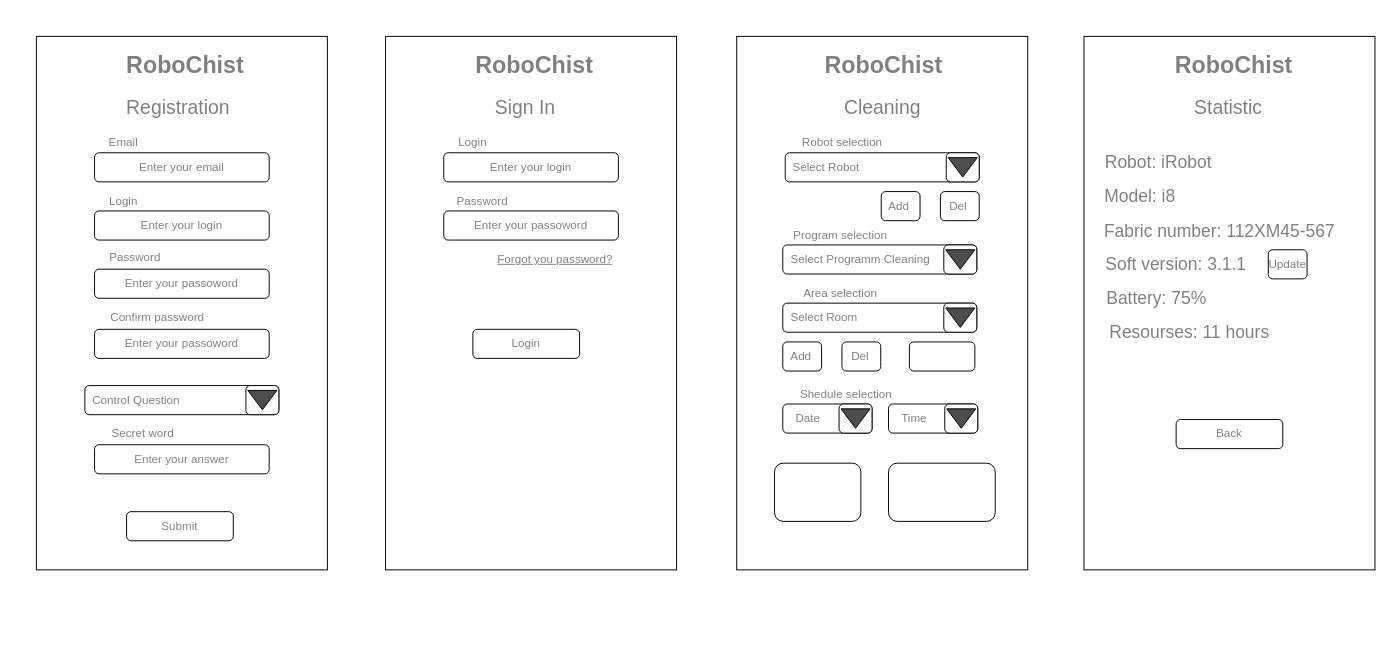
The diagram is 1392 pixels wide and 663 high, and some of its shapes have lost their labels. Each missing label, with the centre of its shape:
"OK" goes at point (817, 491).
"Start now" goes at point (941, 356).
"Statistic for selected Robot" goes at point (941, 491).
